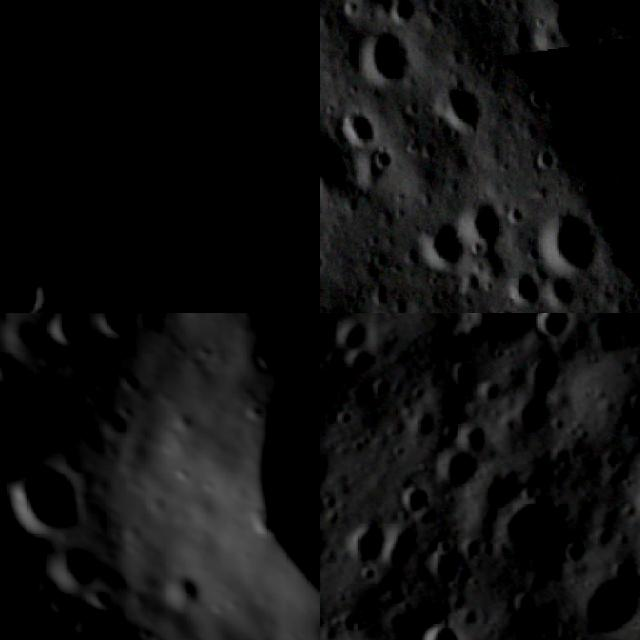crater: (226, 313, 320, 615), (481, 482, 580, 580), (1, 593, 176, 640), (442, 313, 559, 372), (531, 196, 607, 284), (0, 457, 94, 525), (14, 130, 90, 204), (530, 0, 607, 71), (332, 510, 404, 583), (422, 434, 493, 505), (352, 20, 419, 91), (458, 177, 514, 254), (407, 212, 468, 276), (432, 73, 494, 135), (30, 56, 88, 120), (411, 535, 470, 593), (384, 474, 440, 531), (519, 313, 590, 356), (202, 0, 318, 25), (0, 265, 56, 313), (333, 98, 384, 150), (42, 534, 96, 582), (79, 198, 128, 247), (36, 313, 96, 351), (92, 313, 154, 349), (88, 282, 151, 313), (408, 611, 472, 640), (507, 266, 544, 313), (86, 49, 120, 84), (373, 300, 420, 313), (490, 301, 527, 313)
